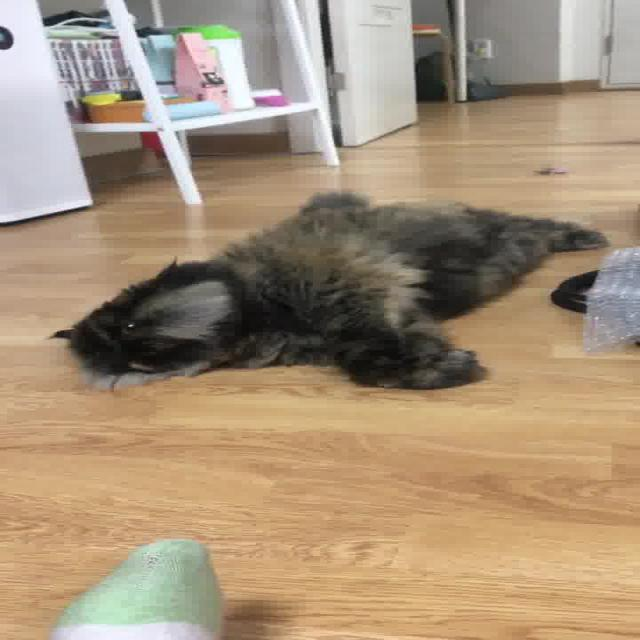cat: (29, 165, 620, 398)
